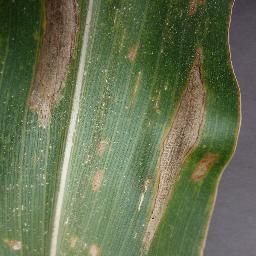Corn_Blight: (25, 1, 81, 138), (157, 43, 206, 155), (134, 157, 187, 256), (115, 28, 147, 101), (228, 3, 243, 154), (2, 235, 108, 253), (196, 193, 226, 255), (90, 131, 108, 206), (192, 149, 225, 187), (178, 1, 215, 28)
